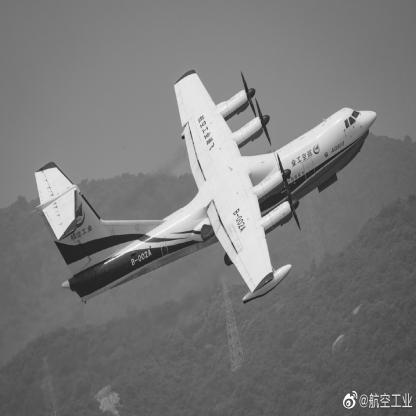AG600: (30, 70, 378, 309)
